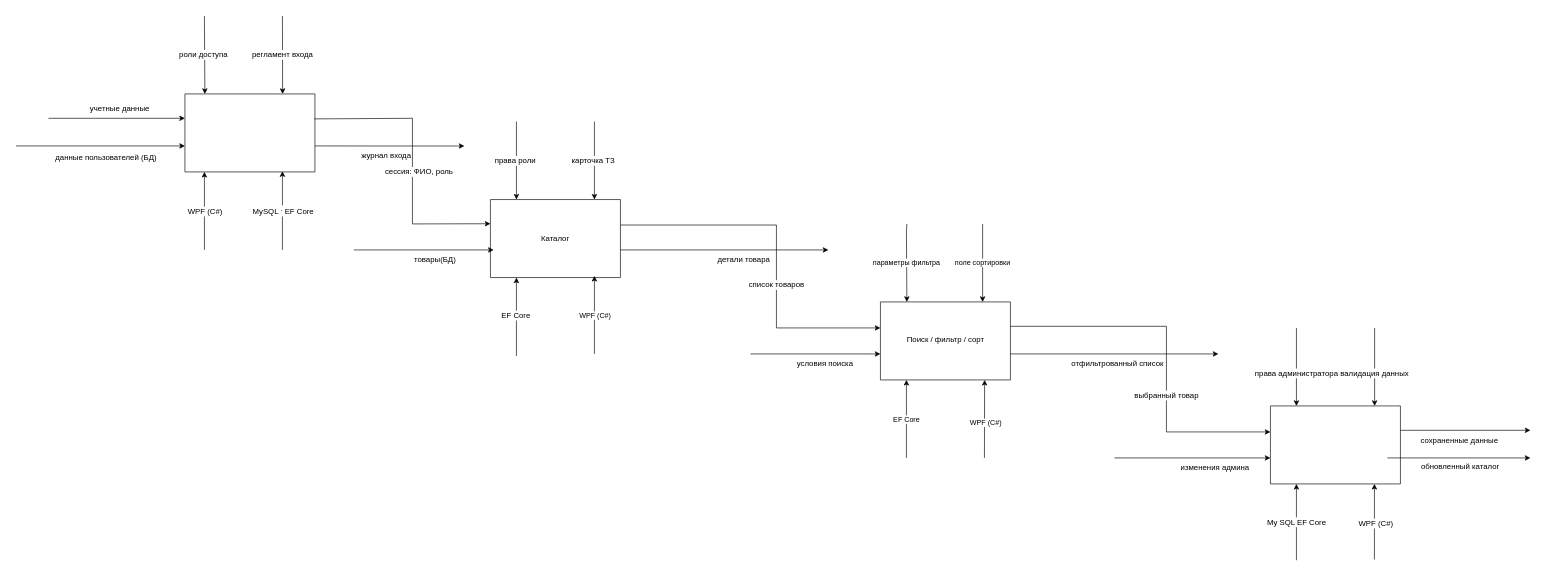
Image size: 1547x577. Some labels were removed from this diagram. The shapes that lost their labels are listed below. From the top down, each one's box as (x1, y1, x2, y2) in pixels, then its label:
(184, 93, 315, 172): Авторизация
(1270, 405, 1400, 484): CRUD товаров
